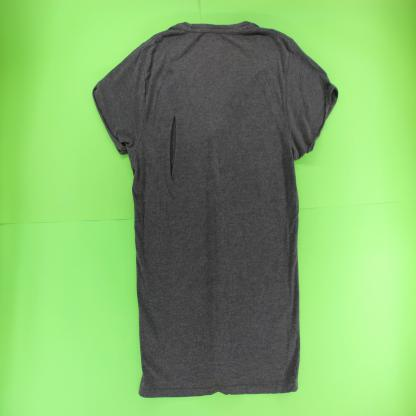hole: (168, 112, 178, 182)
